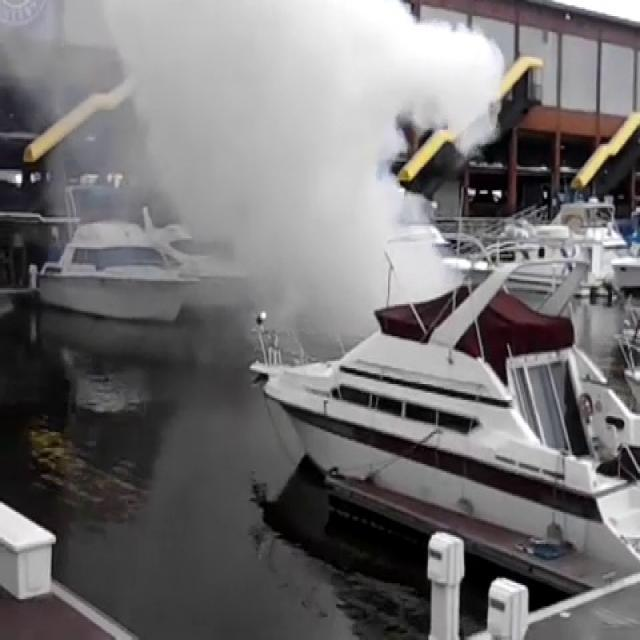Smoke: (2, 0, 492, 331)
